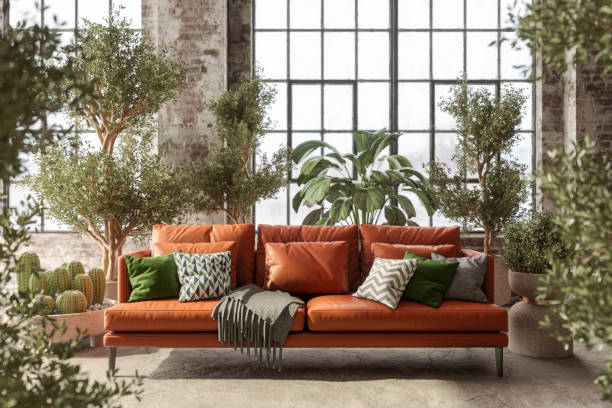large plant: (58, 24, 168, 300), (438, 76, 523, 305), (170, 75, 290, 222), (291, 126, 436, 227), (512, 201, 576, 355)
small plant: (14, 247, 104, 347)
sofa: (101, 221, 511, 380)
